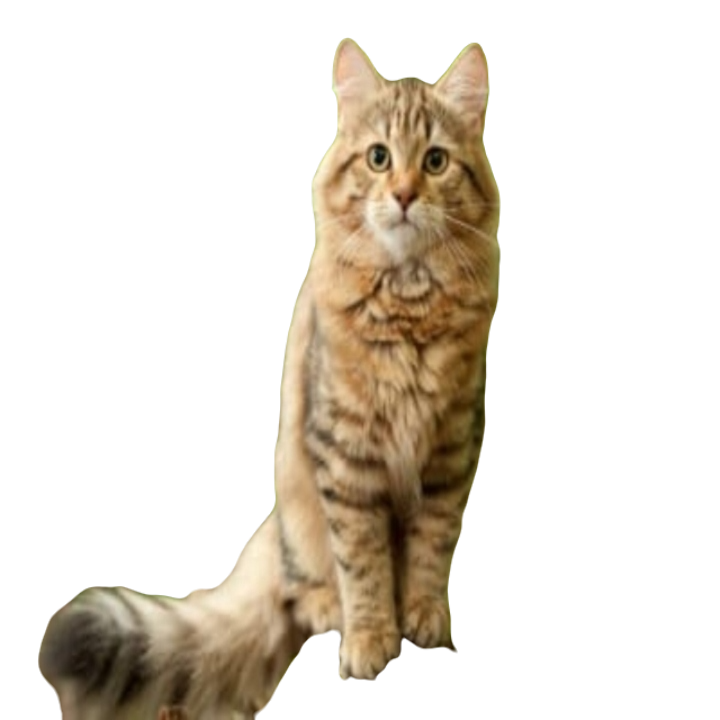Cat: (15, 36, 508, 711)
